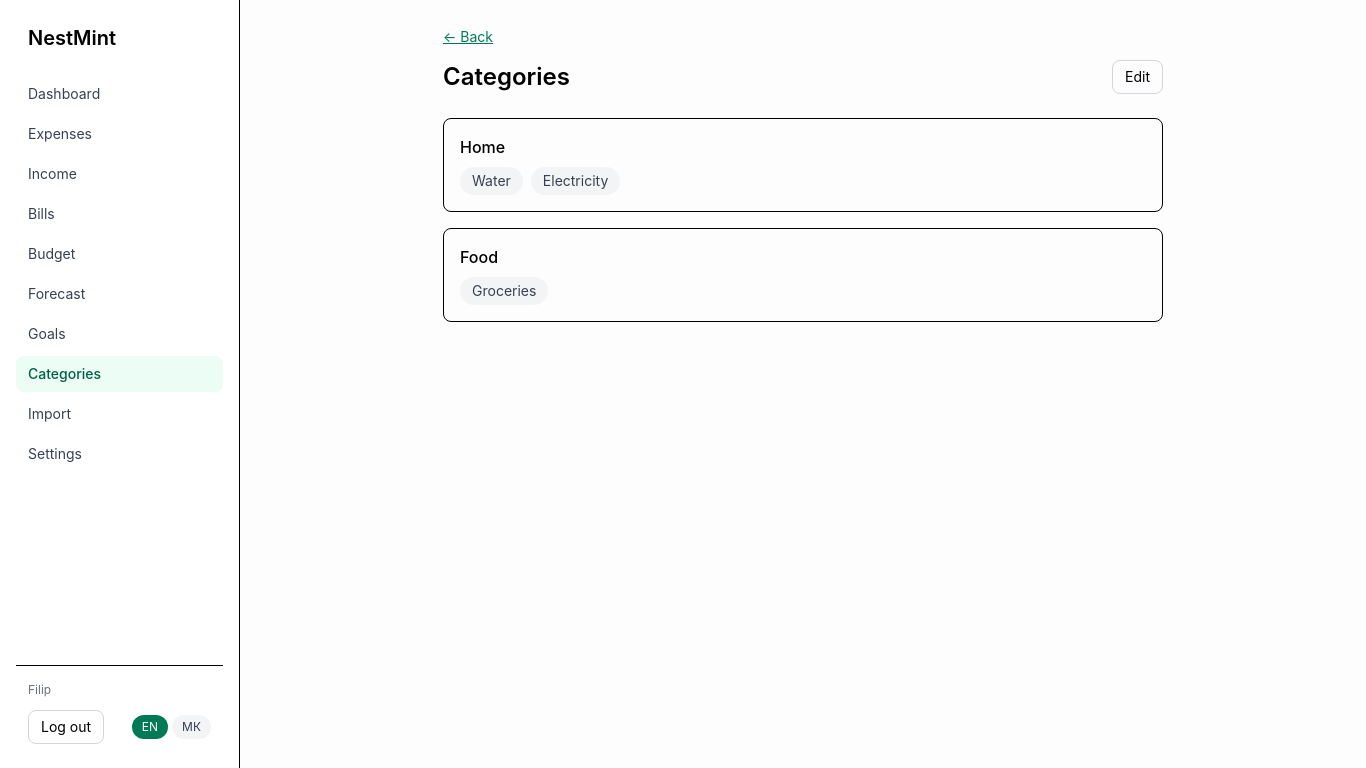
Test: editing categories › renames an item, starting from its current name
Click the button "Edit" at [1138, 77], box [1112,60,1163,94]
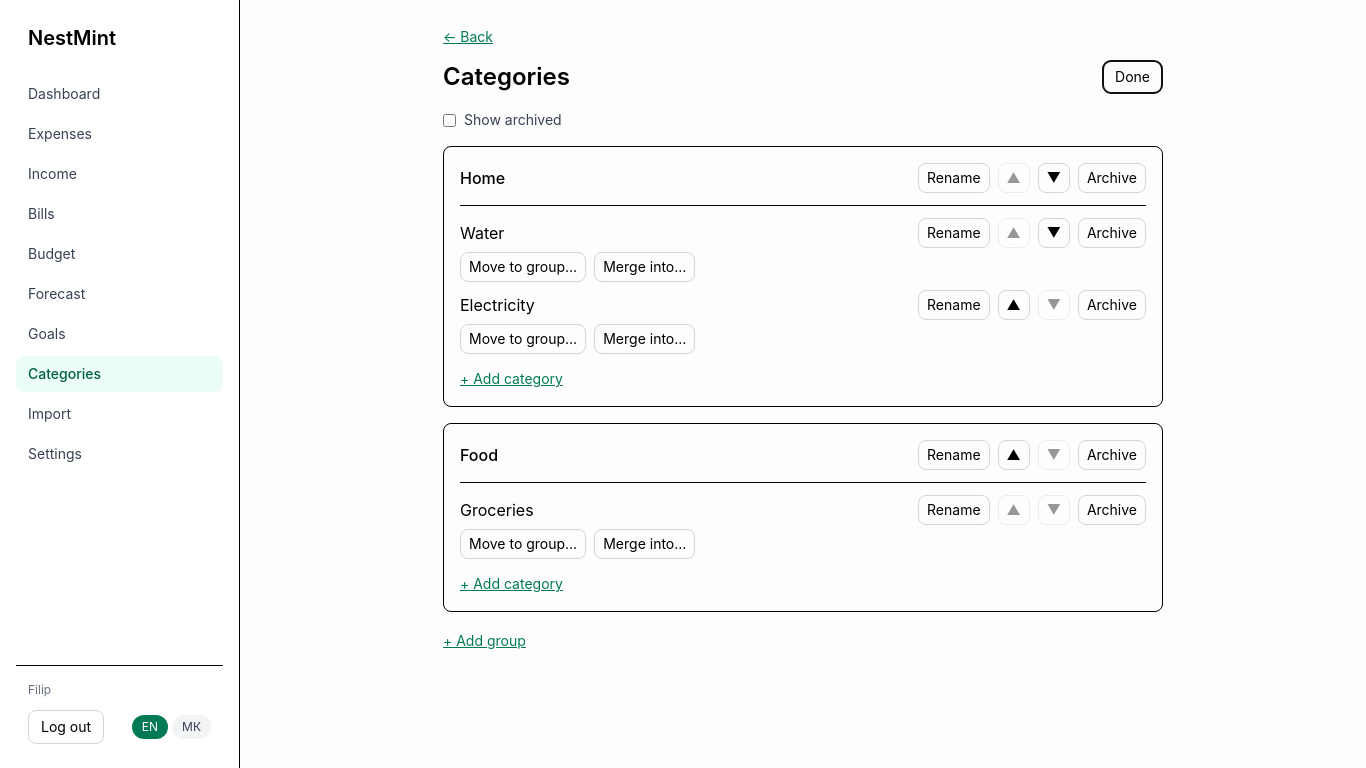
Click the button with aria-label "Rename Water" at [954, 233], box [918,218,990,248]
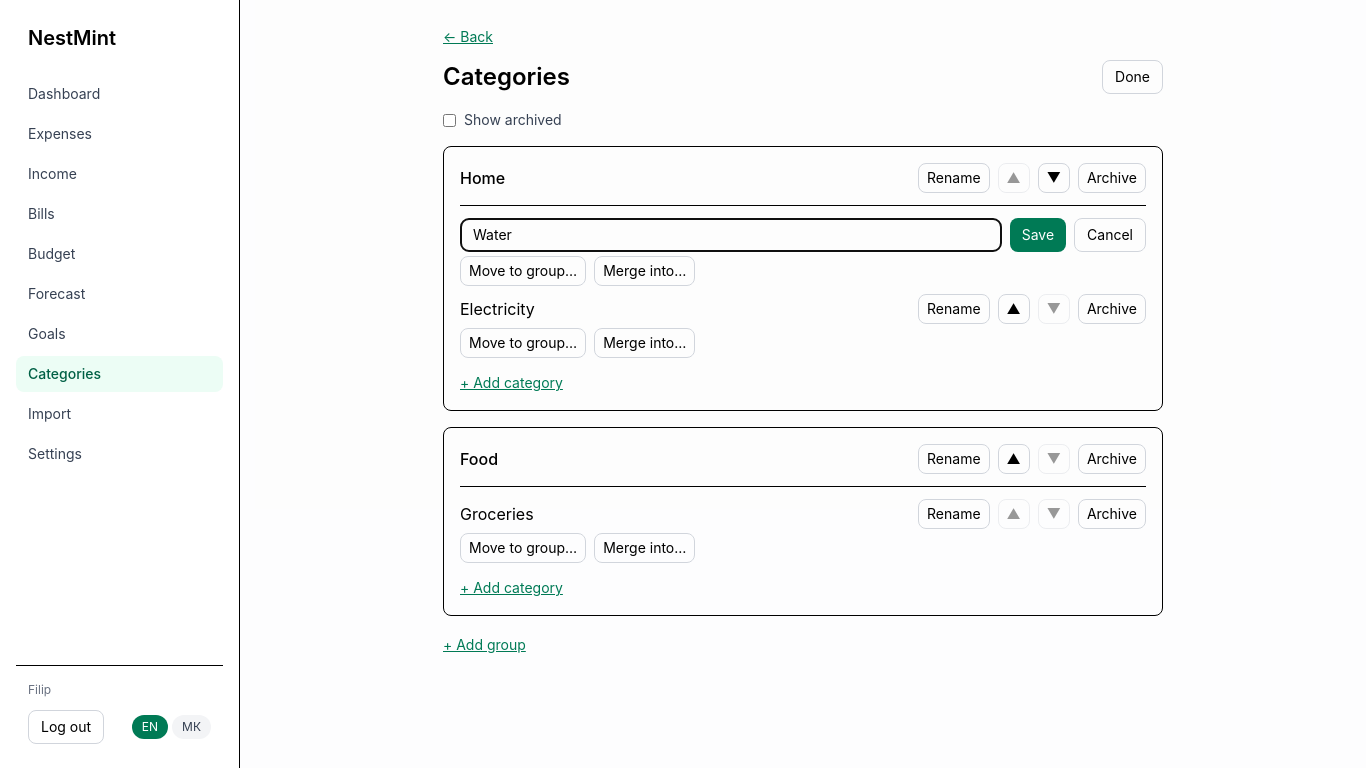
Now the field named "New name for Water" holds "Water"
Replace the text in the field named "New name for Water" with "Water bill" at [731, 235], box [460,218,1002,252]
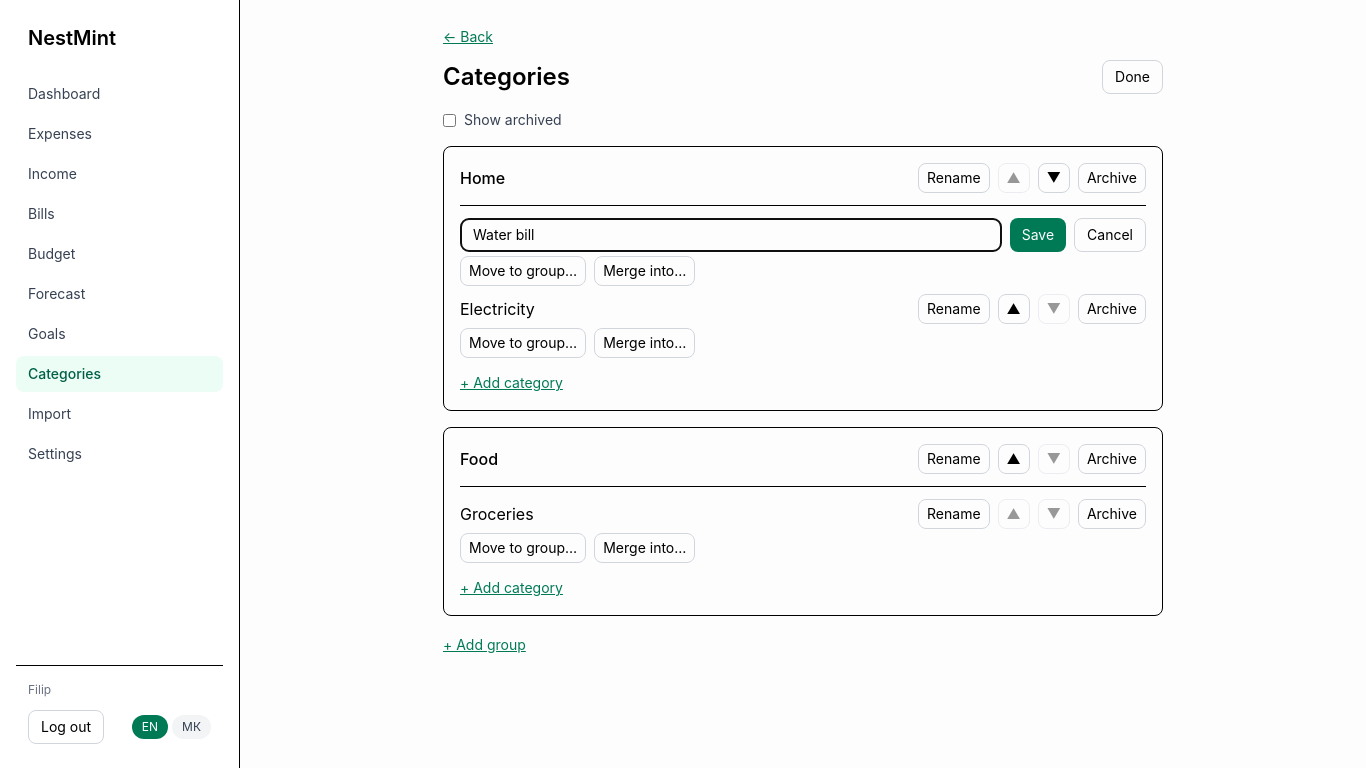
Click the button "Save" at [1038, 235], box [1010,218,1066,252]
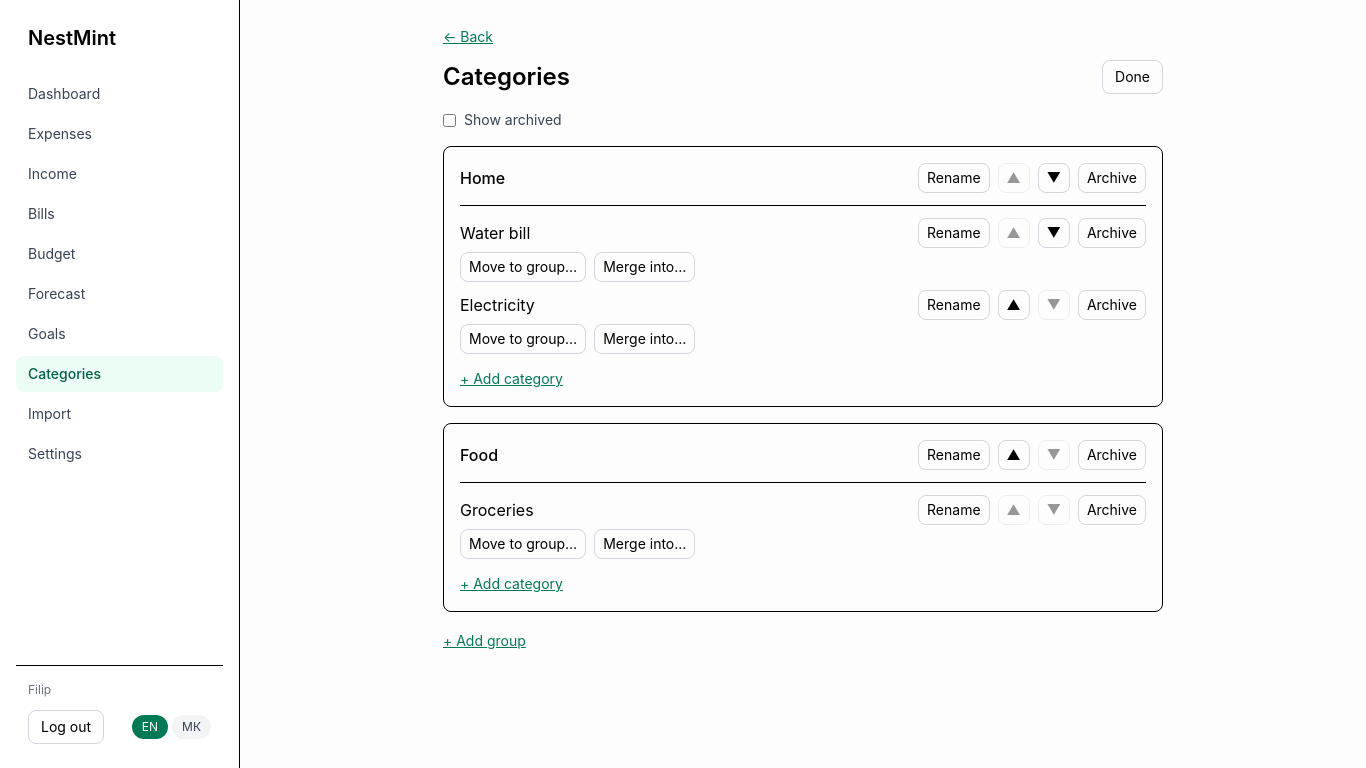
Now the text "Water bill" is shown, box [460,221,530,245]
